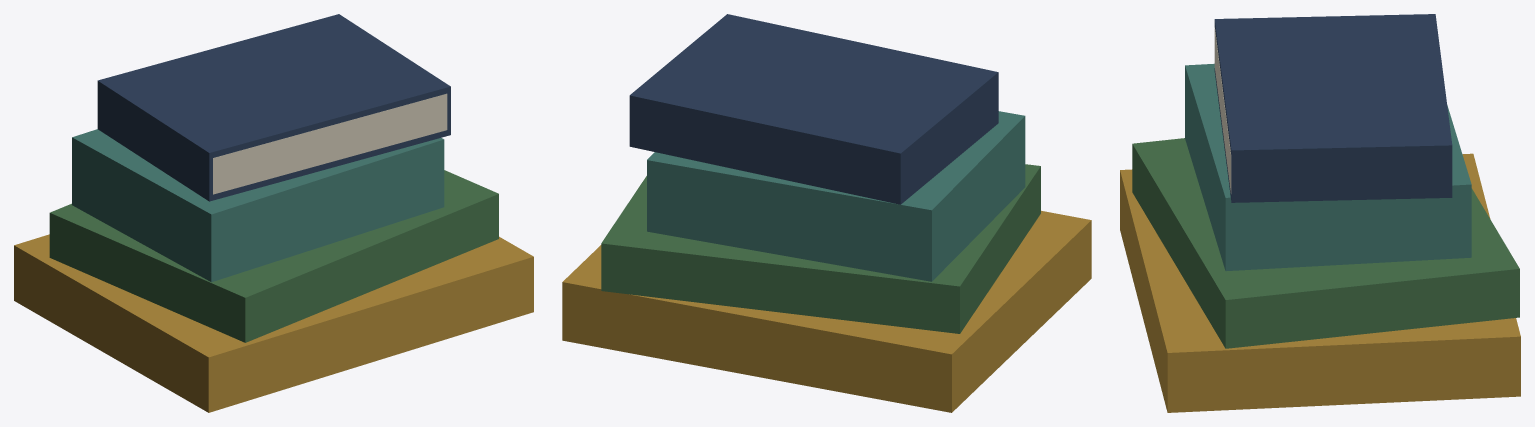
File: book-stack-20.glb
3 views of the same model, side by side, from view 1: azimuth 30°, elevation 25°; view 2: azimuth 150°, elevation 25°; view 3: azimuth 270°, elevation 25° (orthographic). The views are drawn at different scales.
Visible parts, largest first — view 1: book_stack_20; view 2: book_stack_20; view 3: book_stack_20.
Boxes of the visible parts, box(x1,y1,x2,y2) form: book_stack_20: box(14, 14, 533, 412); book_stack_20: box(562, 14, 1091, 412); book_stack_20: box(1120, 14, 1520, 412).
Bounding box in the file's own units: 0.2741 × 0.1503 × 0.233.
